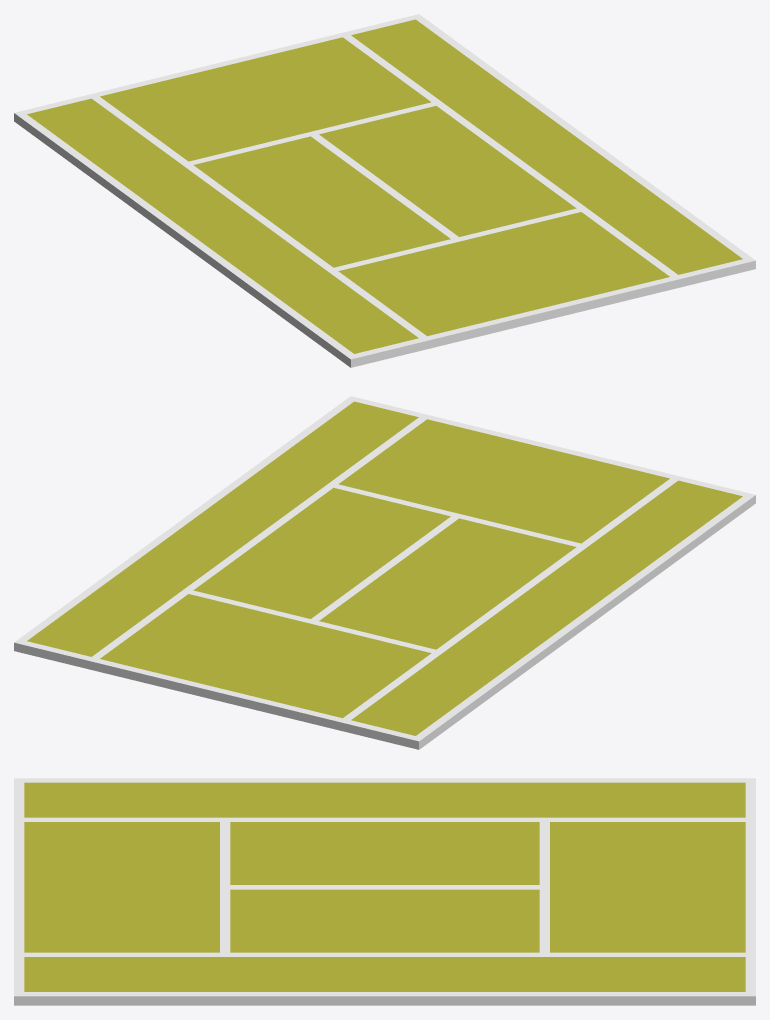
Rendered from Court2.fbx.
3 views of the same model, one above another, from view 1: azimuth 30°, elevation 25°; view 2: azimuth 150°, elevation 25°; view 3: azimuth 270°, elevation 25° (orthographic). The views are drawn at different scales.
Visible parts, largest first — view 1: mergedBlocks; view 2: mergedBlocks; view 3: mergedBlocks.
Part boxes in pixels (x1=…): mergedBlocks: x1=14, y1=14, x2=755, y2=367; mergedBlocks: x1=14, y1=396, x2=755, y2=749; mergedBlocks: x1=14, y1=778, x2=755, y2=1005.
Bounding box in the file's own units: 50 × 1 × 72.
